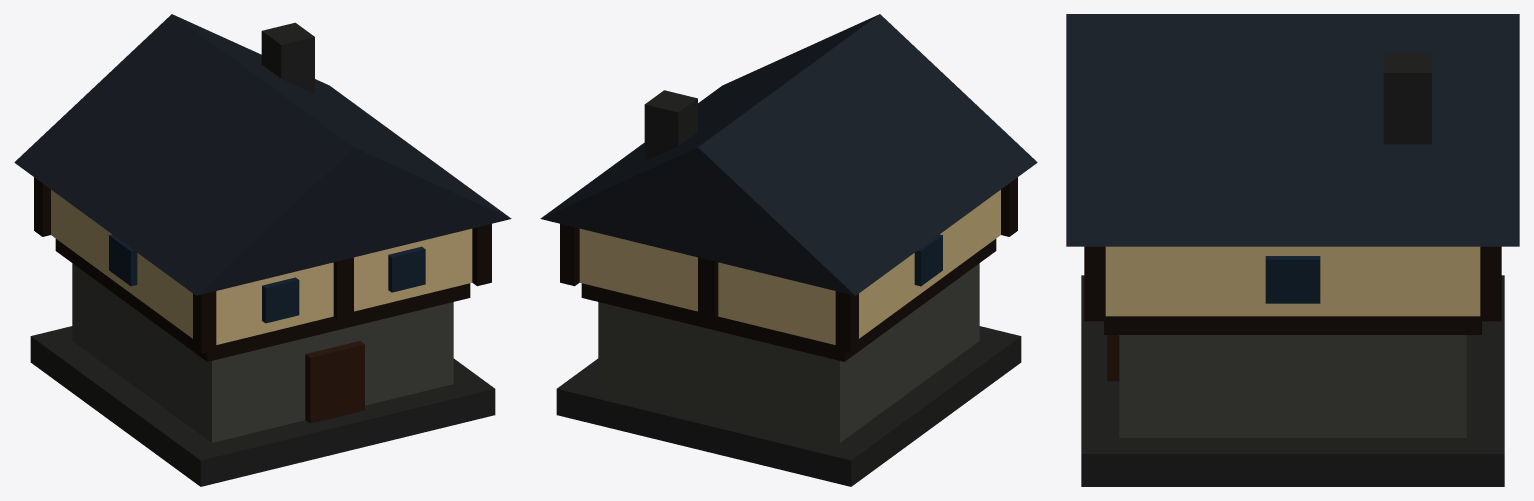
Rendered from house_t2_v3.glb.
3 views of the same model, side by side, from view 1: azimuth 30°, elevation 25°; view 2: azimuth 150°, elevation 25°; view 3: azimuth 270°, elevation 25° (orthographic). The views are drawn at different scales.
Parts seen in each view (by area): view 1: house_t2_v3; view 2: house_t2_v3; view 3: house_t2_v3.
Part boxes in pixels (x1=…): house_t2_v3: x1=14, y1=14, x2=511, y2=486; house_t2_v3: x1=540, y1=14, x2=1037, y2=486; house_t2_v3: x1=1066, y1=14, x2=1519, y2=486.
Size of the model in its own units: 0.75 by 0.7 by 0.75.
1 material, 1 textured.
